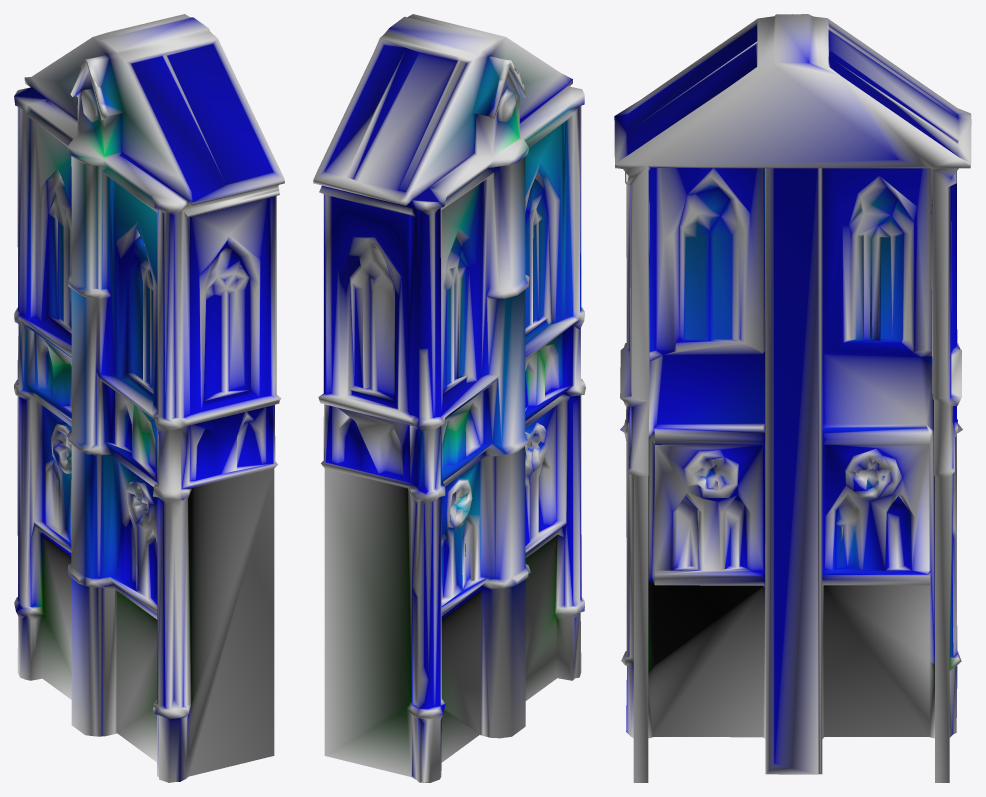
File: SM_Tower_03a.FBX
The picture shows the model from 3 angles, left to right: view 1: azimuth 30°, elevation 25°; view 2: azimuth 150°, elevation 25°; view 3: azimuth 270°, elevation 25°; orthographic projection. The views are drawn at different scales.
Parts seen in each view (by area): view 1: SMPX_Tower_03a_LOD0; view 2: SMPX_Tower_03a_LOD0; view 3: SMPX_Tower_03a_LOD0.
Boxes of the visible parts, left/top/right/bottom form: SMPX_Tower_03a_LOD0: left=14, top=14, right=284, bottom=782; SMPX_Tower_03a_LOD0: left=313, top=14, right=585, bottom=782; SMPX_Tower_03a_LOD0: left=614, top=14, right=971, bottom=782.
Size of the model in its own units: 1108 by 2524 by 5635.
